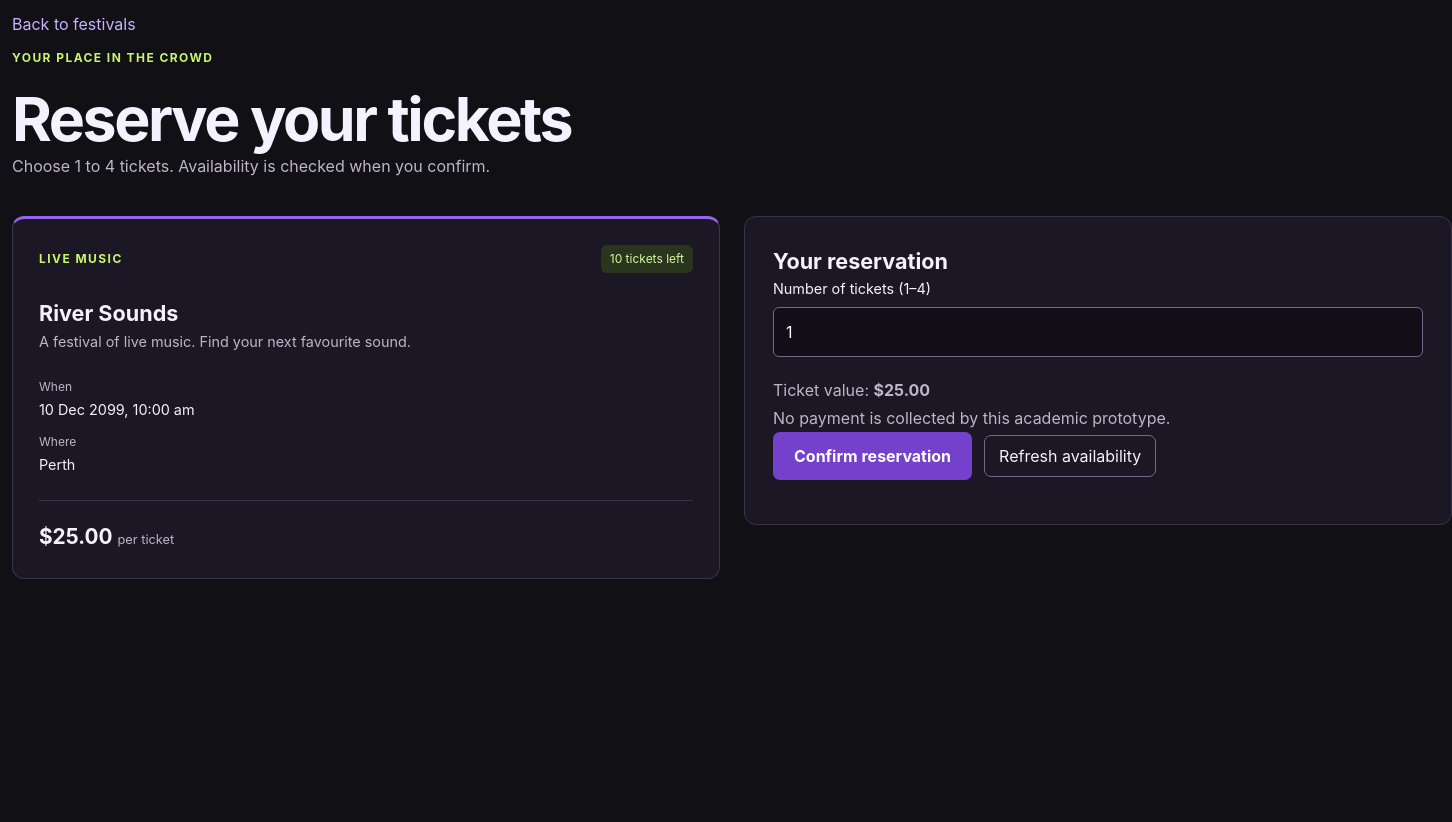
Test: confirms only after the POST succeeds and the saved booking is retrieved
Later steps or results of the test are not shown.
Replace the text in the number field labelled "Number of tickets (1–4)" with "4". click: point(1098, 332)
box: [773, 308, 1423, 358]
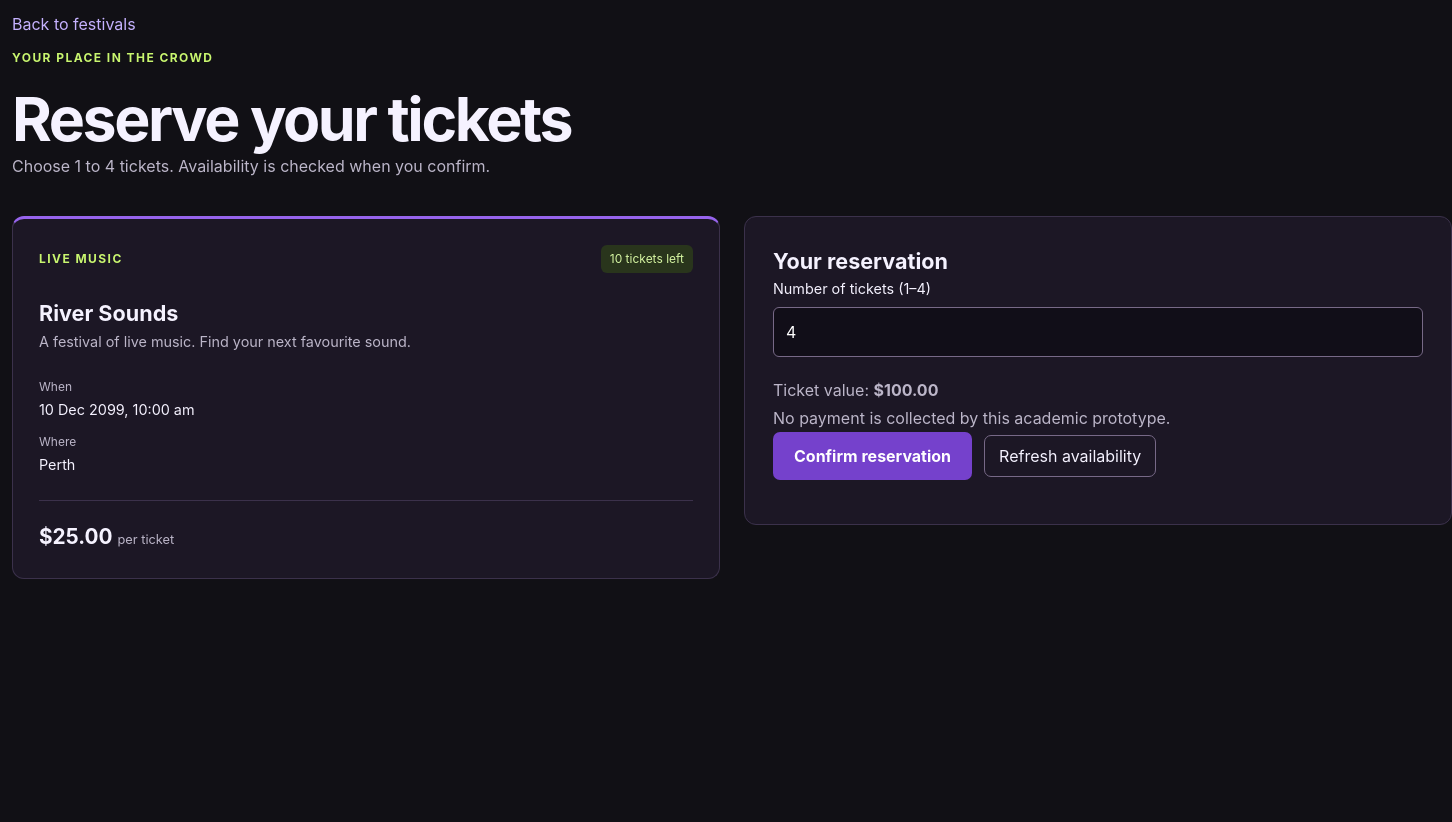
Submit the form, box [744, 216, 1451, 525]
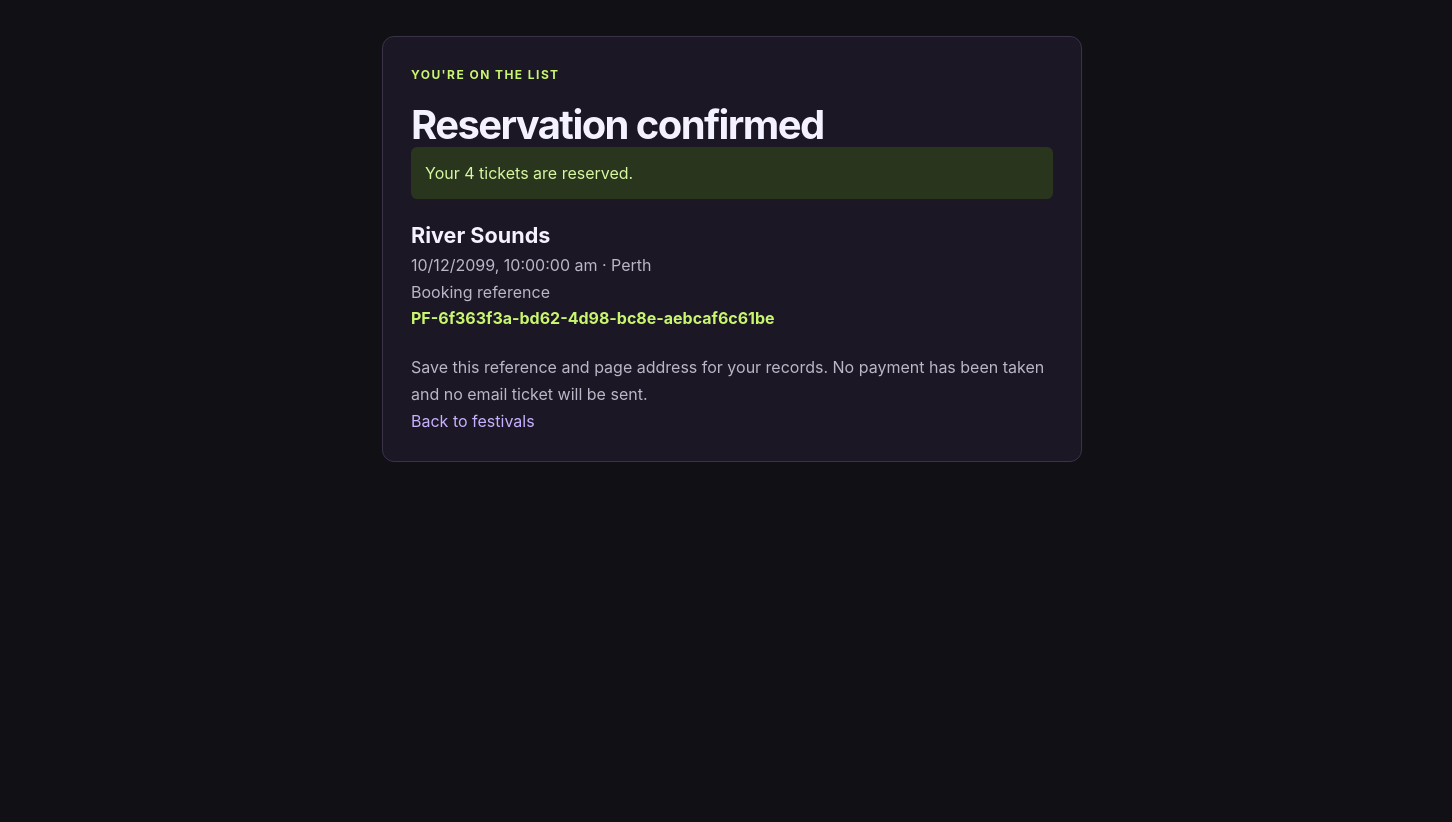
Expected: the text "Reservation confirmed" is shown, [411, 100, 824, 149]
Expected: the text "4 tickets are reserved" is shown, [411, 147, 1053, 199]
